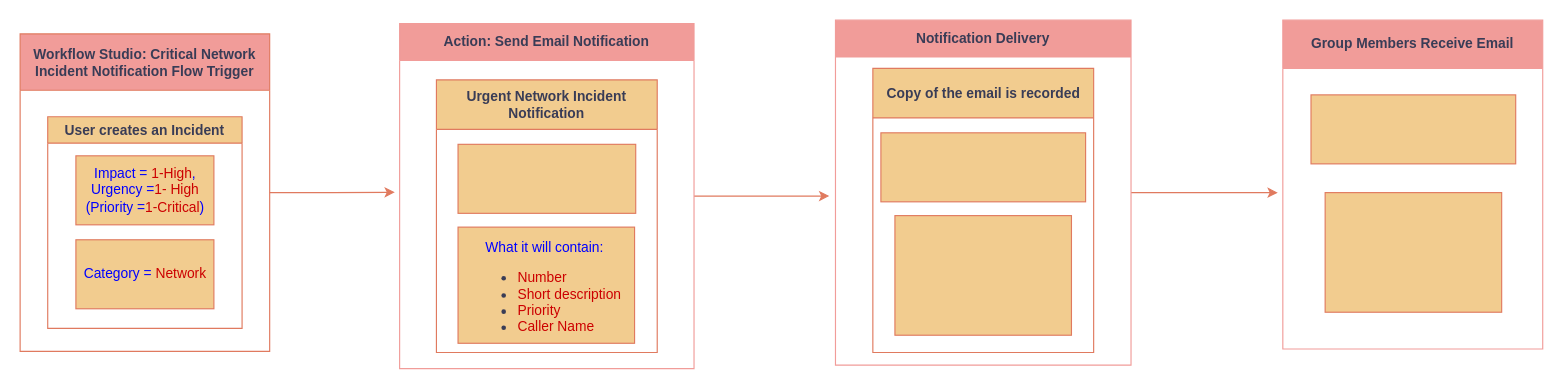
Some shapes in this 1563 by 389 pixel diagram are drawn without their labels. The shapes that lost their labels are listed below. From the top down, each one's centre as x and y in pixels, then its label:
At pixel 1413 129: "Each member of Networking Operations can view and respond to the incident".
At pixel 546 178: "Who will receive: Networking Operations Group".
At pixel 983 167: "System Logs → Emails → Sent".
At pixel 1413 251: "SLA Clock Starts: SLA definition attached to high priority incidents".
At pixel 982 274: "Outbox/Email Preview: Subject Recepient(s) Body Email Log".
